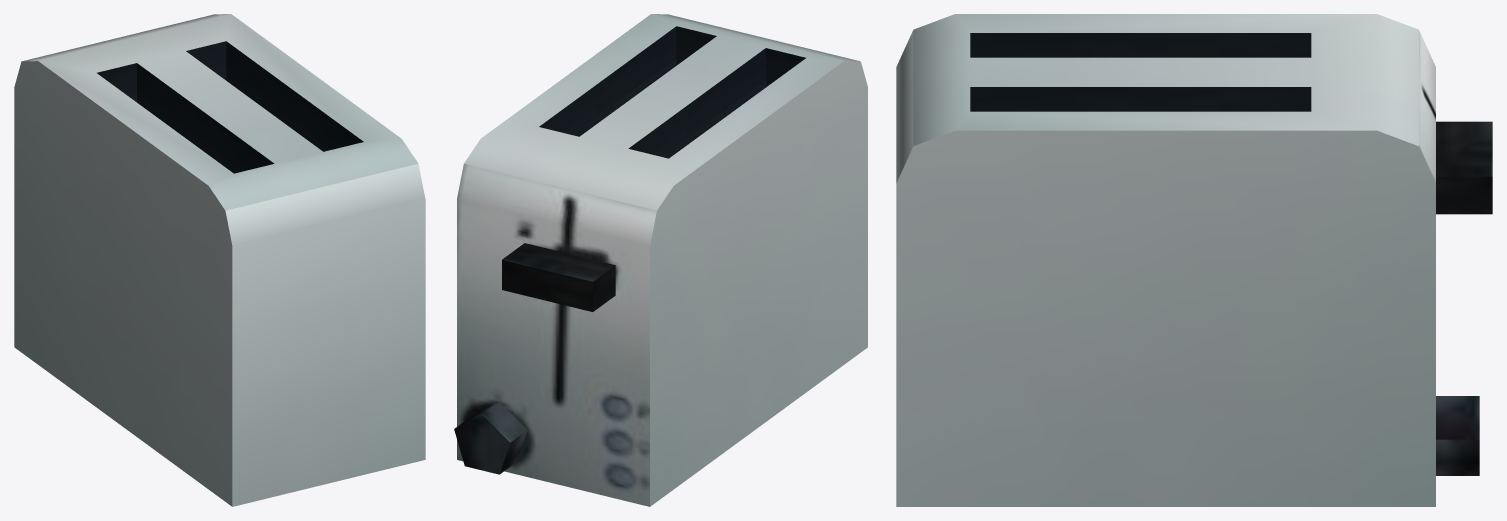
The model's file is Toaster_01-col.glb.
The picture shows the model from 3 angles, left to right: view 1: azimuth 30°, elevation 25°; view 2: azimuth 150°, elevation 25°; view 3: azimuth 270°, elevation 25°; orthographic projection. The views are drawn at different scales.
Parts seen in each view (by area): view 1: Toaster_01-col; view 2: Toaster_01-col; view 3: Toaster_01-col.
Part boxes in pixels (box(x1,y1,x2,y2)): Toaster_01-col: box(14, 14, 425, 506); Toaster_01-col: box(454, 14, 867, 506); Toaster_01-col: box(896, 14, 1492, 506).
Size of the model in its own units: 0.1865 by 0.2804 by 0.4029.
Materials: 1 (1 with a texture image).
